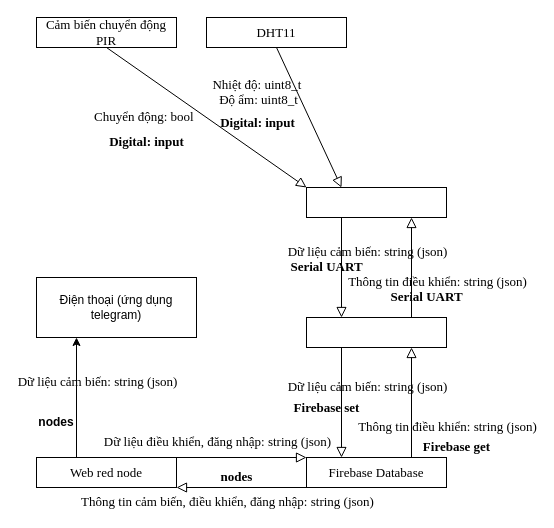
Image size: 554x528. Some labels were removed from this diagram. The shapes that lost their labels are listed below. From the top down, each one's centre as x and y in pixels, then its label:
At [376,202]: "Arduino Mega".
At [376,332]: "ESP8266".
